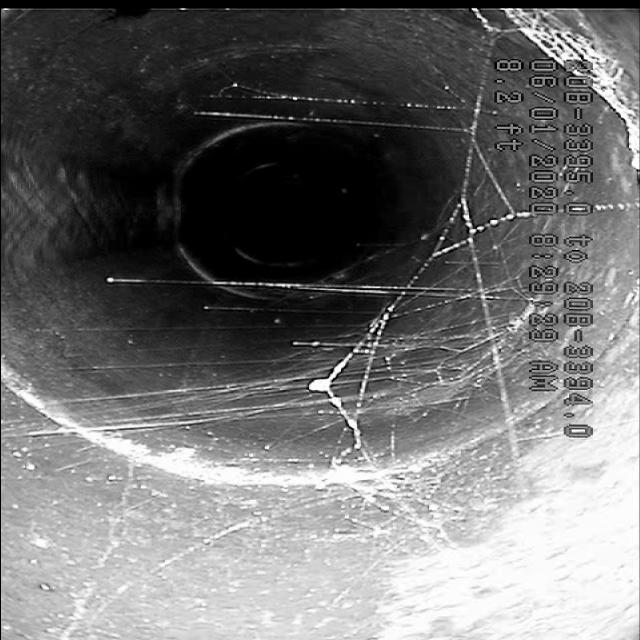Crack: (31, 430, 212, 620)
